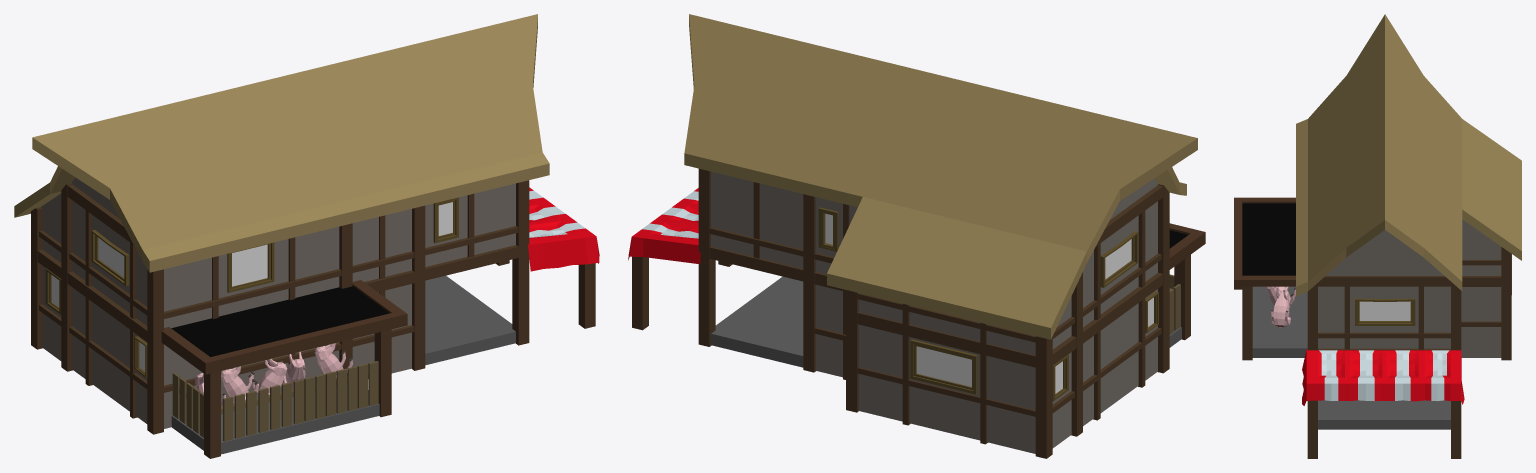
The model's file is slager lod1.fbx.
3 views of the same model, side by side, from view 1: azimuth 30°, elevation 25°; view 2: azimuth 150°, elevation 25°; view 3: azimuth 270°, elevation 25° (orthographic). The views are drawn at different scales.
Parts seen in each view (by area): view 1: Cube_LOD0; view 2: Cube_LOD0; view 3: Cube_LOD0.
Boxes of the visible parts, <box> form: Cube_LOD0: <box>14,14,599,458</box>; Cube_LOD0: <box>628,14,1205,458</box>; Cube_LOD0: <box>1234,14,1521,458</box>.
Size of what is drawn, in the model's own units: 14.93 by 7.73 by 8.57.
